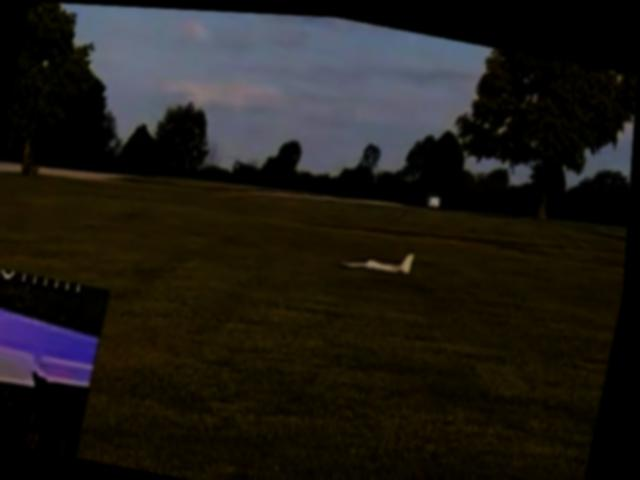iha: (342, 235, 418, 278)
